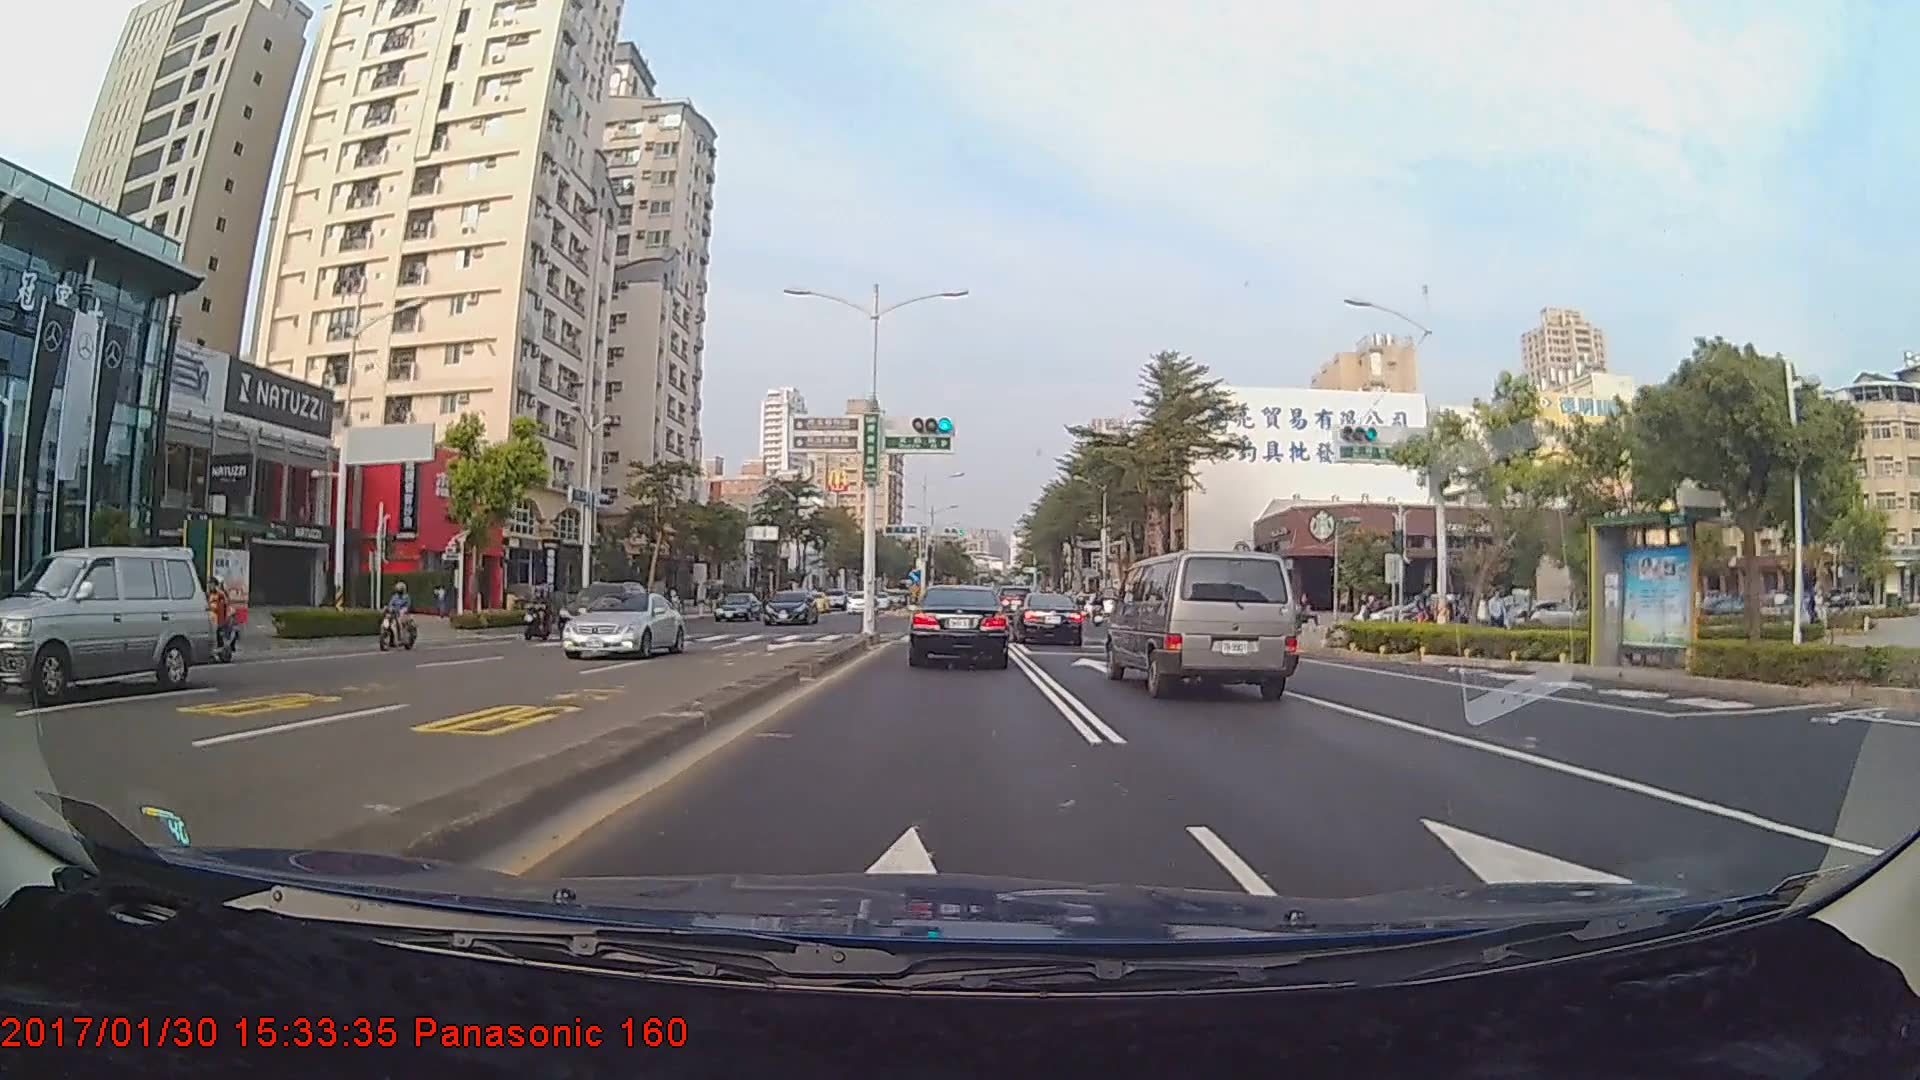rider: (188, 571, 240, 664), (376, 576, 428, 656), (518, 579, 555, 643)
vehicle: (0, 545, 219, 704), (1110, 546, 1296, 698), (558, 590, 683, 660), (911, 584, 1008, 667), (555, 579, 650, 642), (1013, 592, 1085, 646), (761, 587, 818, 625), (713, 591, 761, 620), (845, 591, 876, 613)
